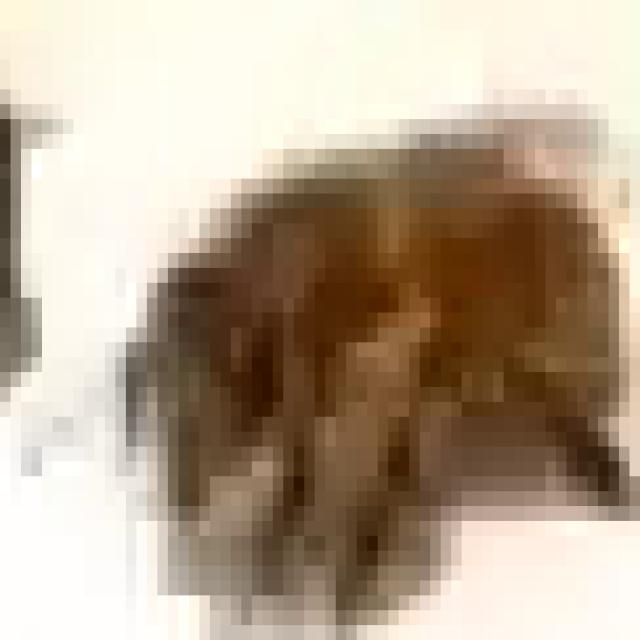honeybee: (111, 138, 592, 491)
